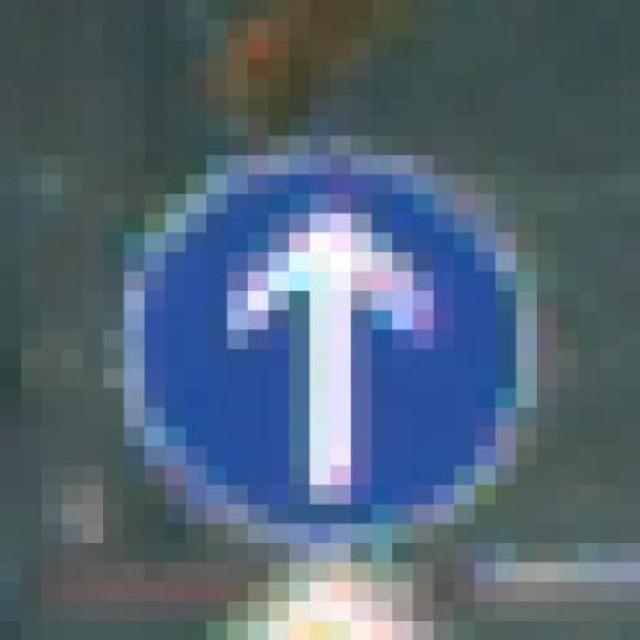Straight Ahead Only: (61, 116, 578, 562)
